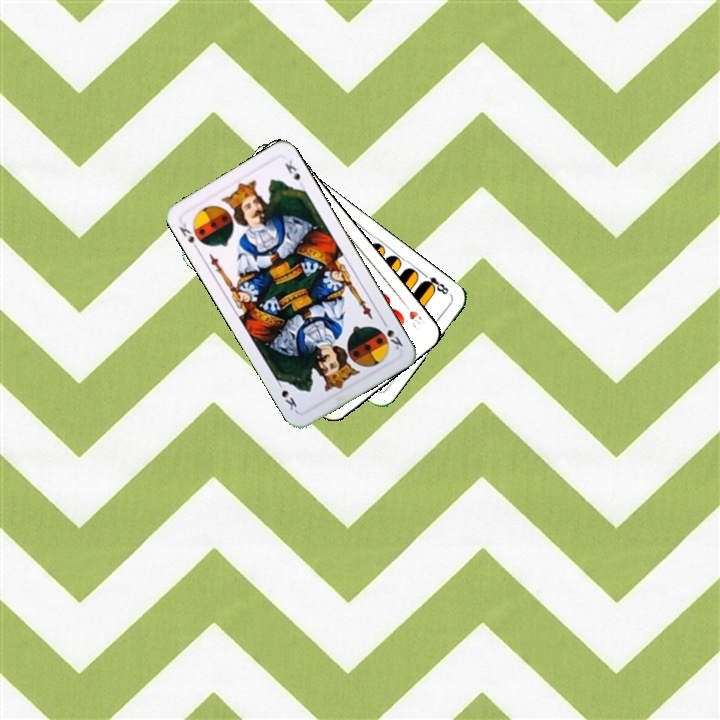E8: (418, 269, 453, 298)
H10: (399, 297, 429, 331)
SK: (378, 316, 406, 352), (175, 219, 202, 254)
